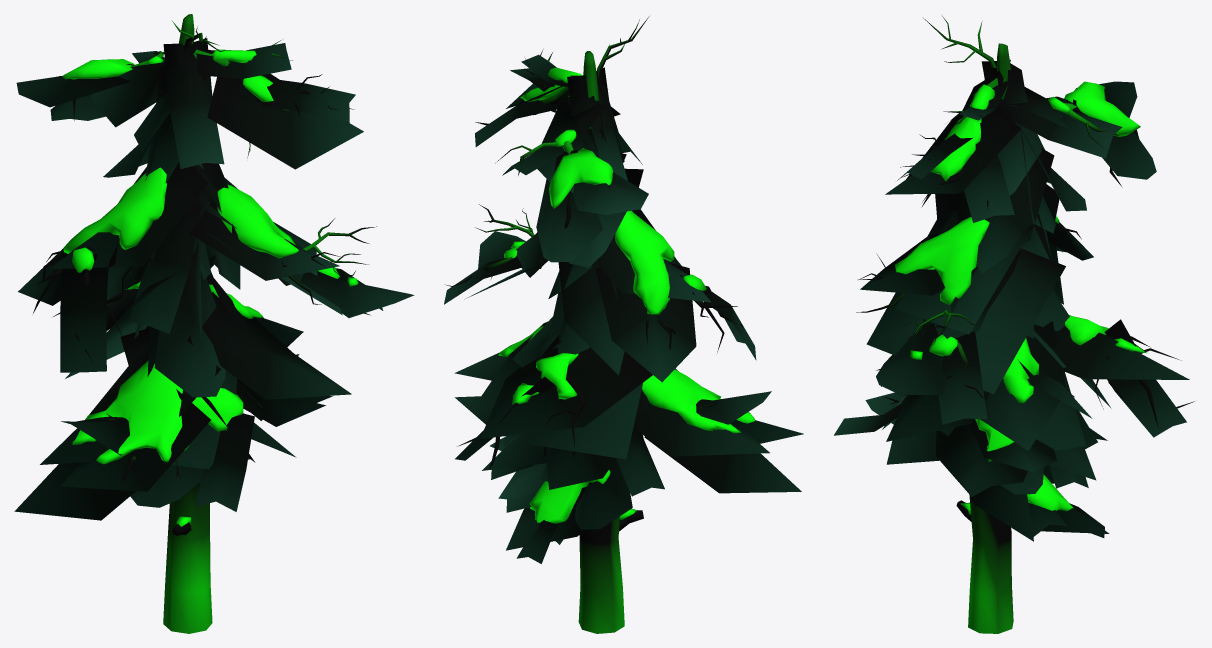
File: SM_PineSnowCover02.fbx
3 renders of one model, left to right at view 1: azimuth 30°, elevation 25°; view 2: azimuth 150°, elevation 25°; view 3: azimuth 270°, elevation 25°, orthographic. The views are drawn at different scales.
Parts seen in each view (by area): view 1: SM_PineSnowCover02_LOD0; view 2: SM_PineSnowCover02_LOD0; view 3: SM_PineSnowCover02_LOD0.
Boxes of the visible parts, x1,y1,x2,y2 form: SM_PineSnowCover02_LOD0: (14,14,414,633); SM_PineSnowCover02_LOD0: (444,16,803,633); SM_PineSnowCover02_LOD0: (834,16,1194,633).
Bounding box in the file's own units: 760 × 1227 × 671.
